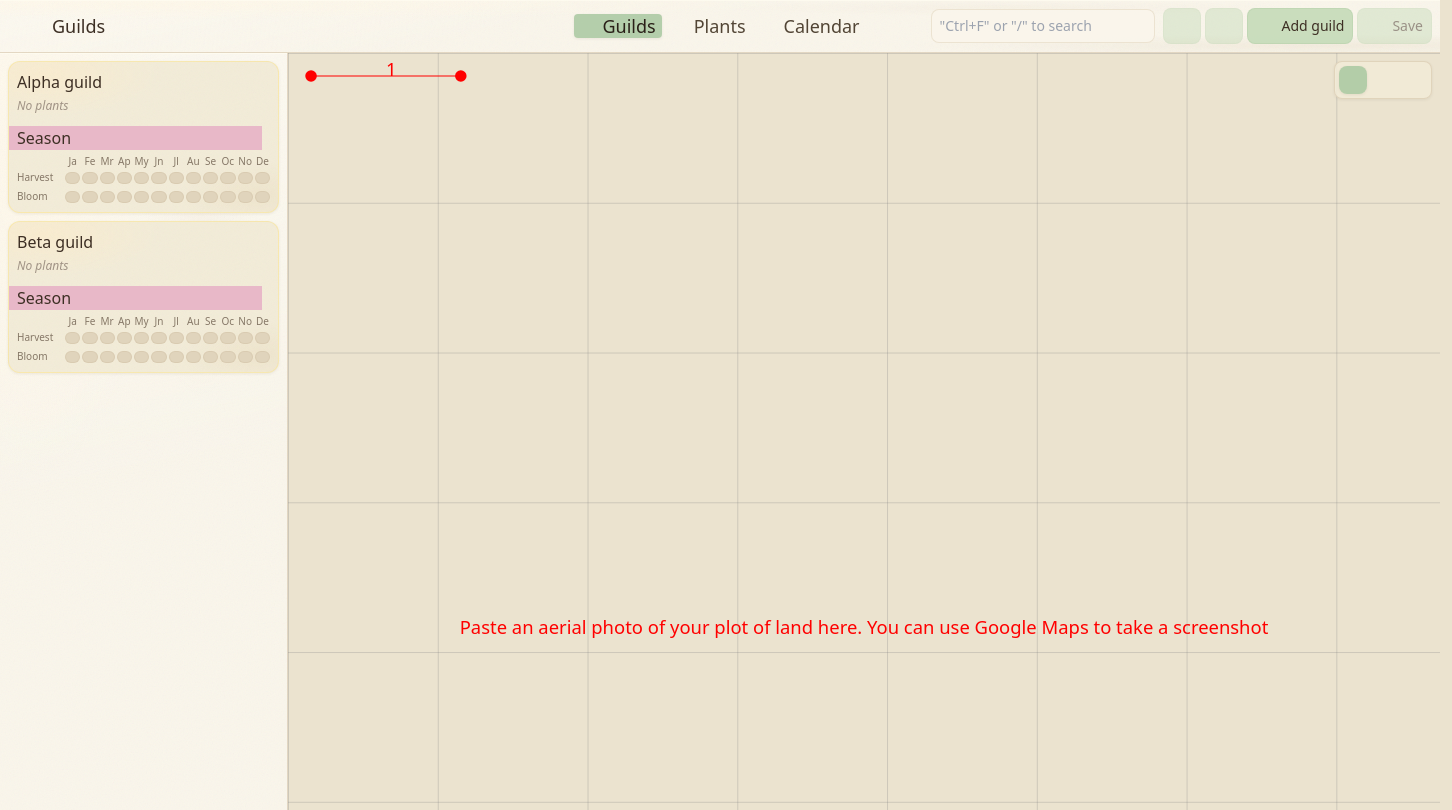
selects a guild from the list and shows full details
This screenshot has width=1452, height=810.
Click the element "Beta guild" at x=144, y=297, box [8, 221, 279, 373]
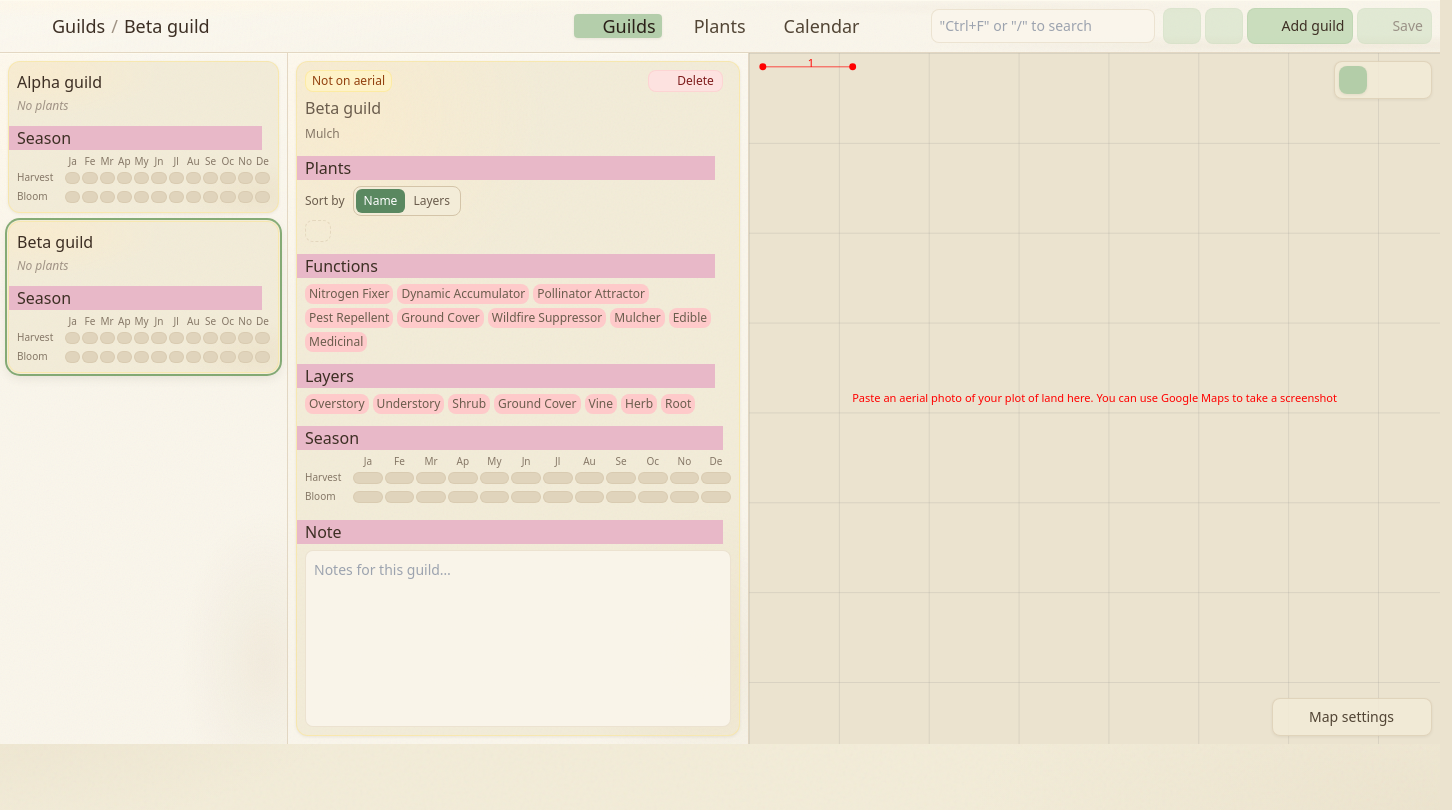
Expected: the button with aria-label "Deselect guild, Guilds" is shown, [52, 12, 105, 40]
Expected: the button "Delete" is shown, [648, 70, 723, 92]
Expected: the navigation bar named "Breadcrumb" shows "Beta guild", [124, 14, 210, 38]
